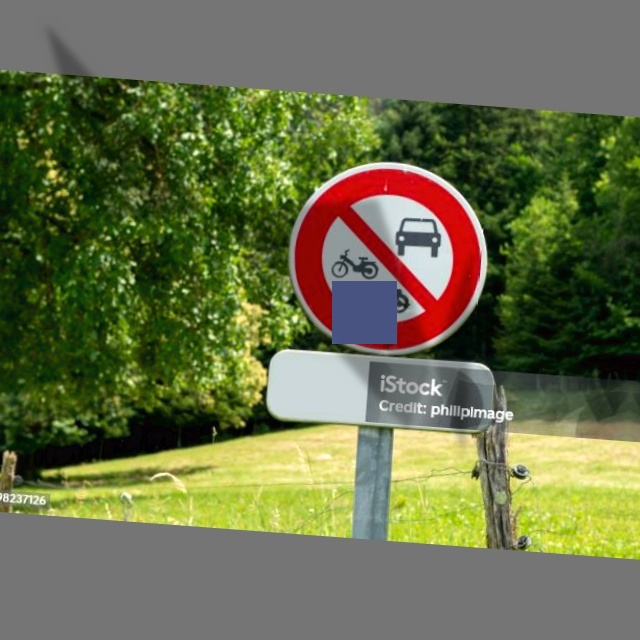All_Motor_Vehicles_Prohibited: (282, 154, 489, 361)
